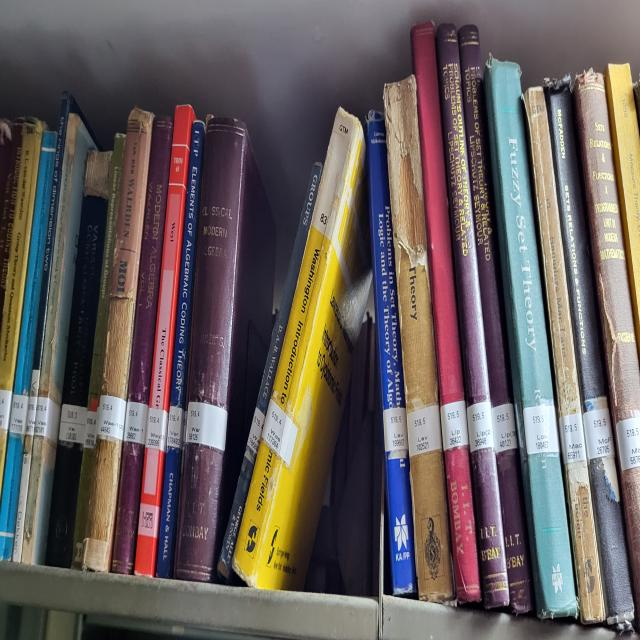Book: (232, 108, 371, 590), (485, 60, 578, 617), (544, 78, 635, 628), (174, 116, 276, 582), (459, 24, 534, 614), (524, 87, 605, 625), (218, 162, 322, 579), (436, 24, 509, 609), (384, 76, 454, 601), (12, 92, 90, 563), (81, 108, 154, 571), (21, 114, 94, 565), (111, 116, 174, 574), (135, 106, 195, 576), (0, 130, 56, 560), (71, 133, 125, 568), (368, 111, 416, 593), (156, 119, 205, 579), (51, 195, 108, 557), (411, 22, 464, 406)
Label: (185, 400, 228, 452), (406, 403, 441, 457), (582, 406, 615, 460), (524, 406, 559, 455), (440, 400, 469, 452), (382, 406, 409, 460), (559, 411, 586, 465), (466, 400, 494, 452), (491, 403, 518, 455), (96, 395, 126, 441), (262, 398, 286, 455), (34, 395, 61, 444), (59, 403, 88, 444), (145, 406, 169, 452), (124, 400, 149, 444), (248, 406, 265, 455), (166, 406, 185, 449), (10, 395, 29, 436), (84, 411, 98, 449), (26, 395, 38, 436)
